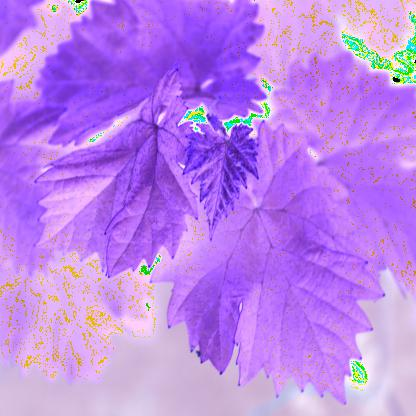grape leaf: (162, 145, 391, 393), (27, 72, 198, 273), (39, 0, 270, 148), (165, 112, 265, 244)
